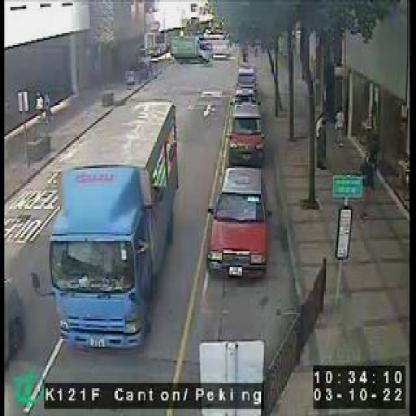Car: (211, 164, 269, 276), (230, 104, 260, 163), (232, 66, 258, 100)
Truck: (58, 100, 177, 345), (170, 35, 209, 59)
